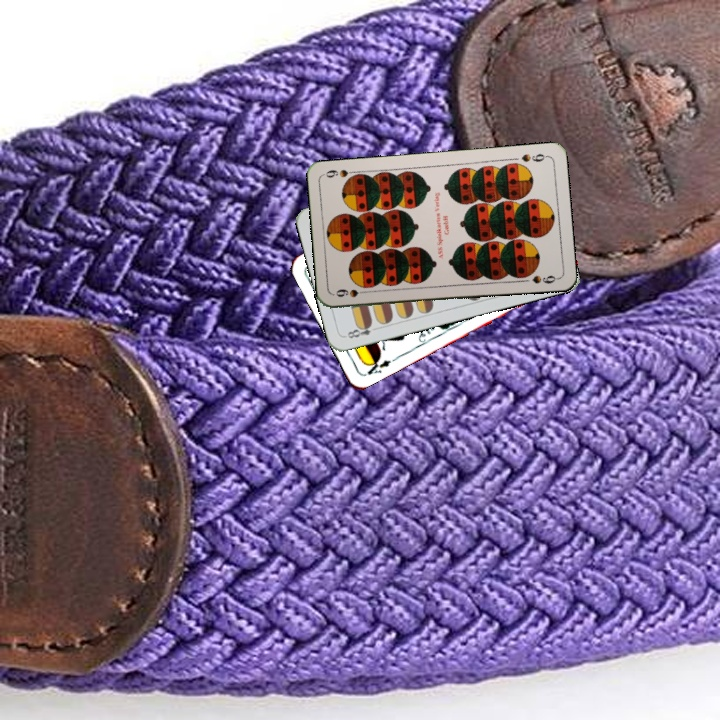E8: (341, 319, 381, 341)
EA: (361, 353, 399, 378)
S9: (331, 285, 372, 300), (517, 150, 550, 165)
